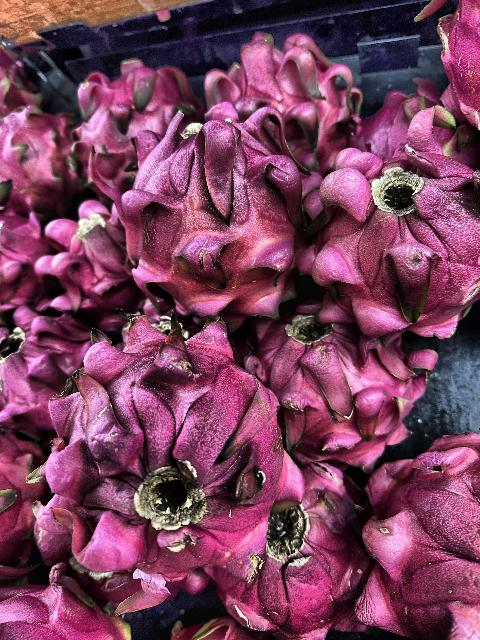buah-naga-matang: (57, 316, 291, 586), (116, 93, 290, 320), (304, 125, 480, 328), (248, 306, 423, 468), (220, 456, 371, 640), (356, 432, 480, 640), (203, 35, 354, 157), (32, 202, 134, 330), (66, 67, 180, 181), (0, 93, 88, 215), (0, 308, 84, 424)
